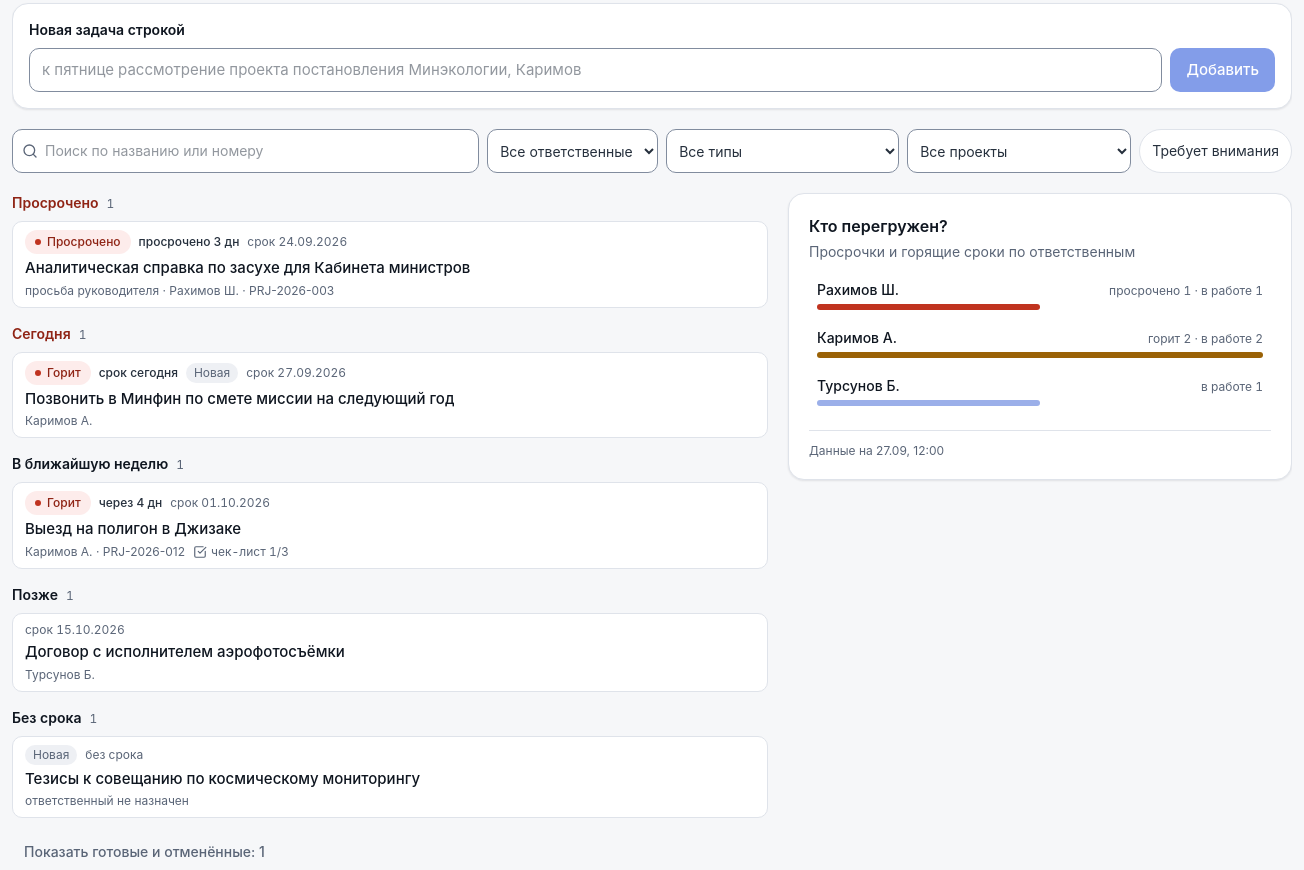
Задачи › список по сроку и пометка «вымышленные данные»
(page scrolled)
Expected: the element "Просрочено" is shown, [12,193,768,308]
Expected: the element "Без срока" is shown, [12,708,768,818]
Click the button "Показать готовые и отменённые: 1".
click(144, 852)  # box [12,834,277,869]
(page scrolled)
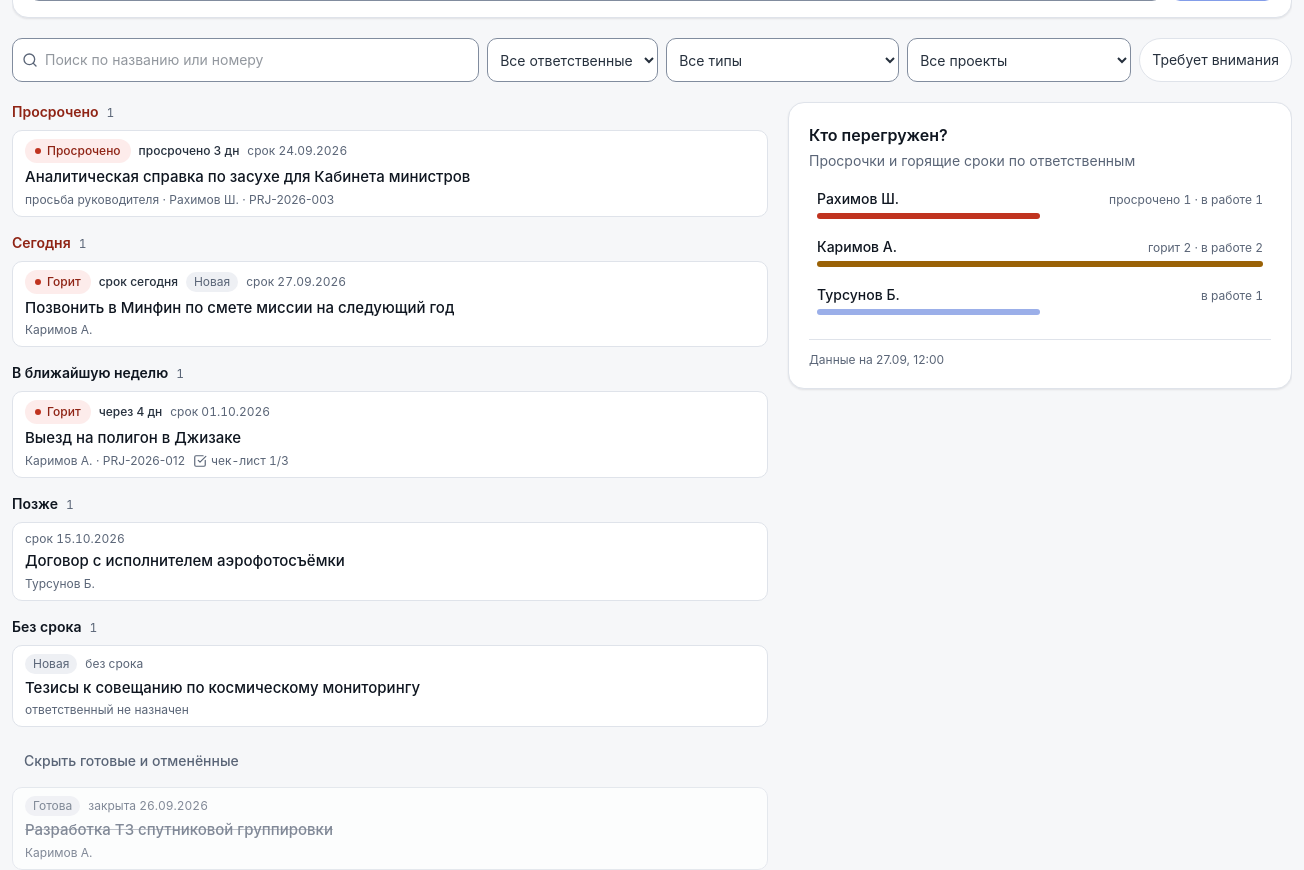
Result: the text "Разработка ТЗ спутниковой группировки" is shown at [25,820,333,841]
